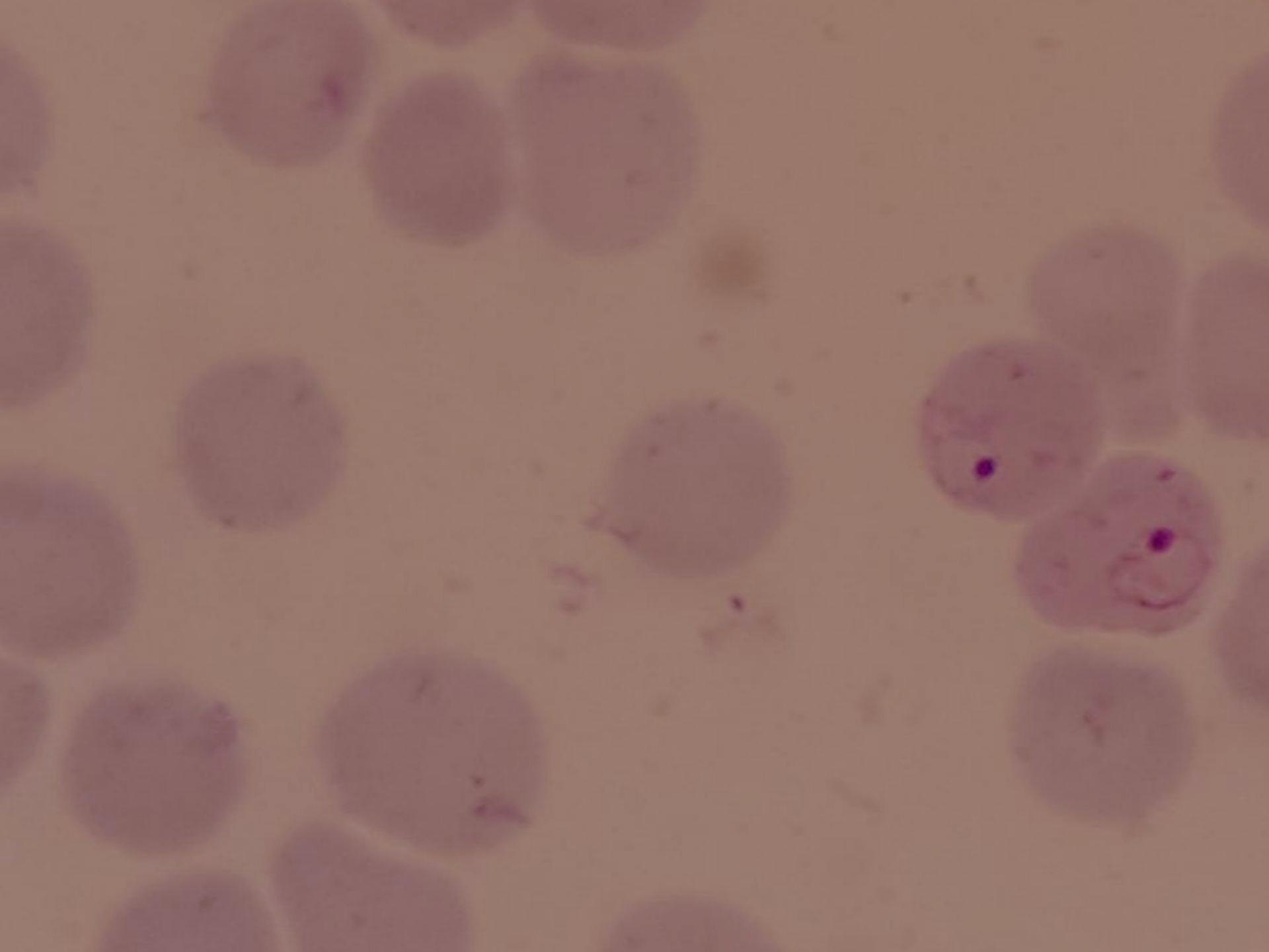Infected: (1016, 451, 1214, 641), (920, 337, 1105, 514)
Uninfected: (326, 649, 545, 849), (504, 45, 700, 254), (1008, 635, 1196, 823), (1038, 223, 1192, 439), (61, 679, 246, 855), (606, 401, 790, 571), (175, 354, 350, 530), (207, 0, 369, 168), (273, 818, 465, 952), (365, 71, 508, 246), (0, 471, 135, 653)
